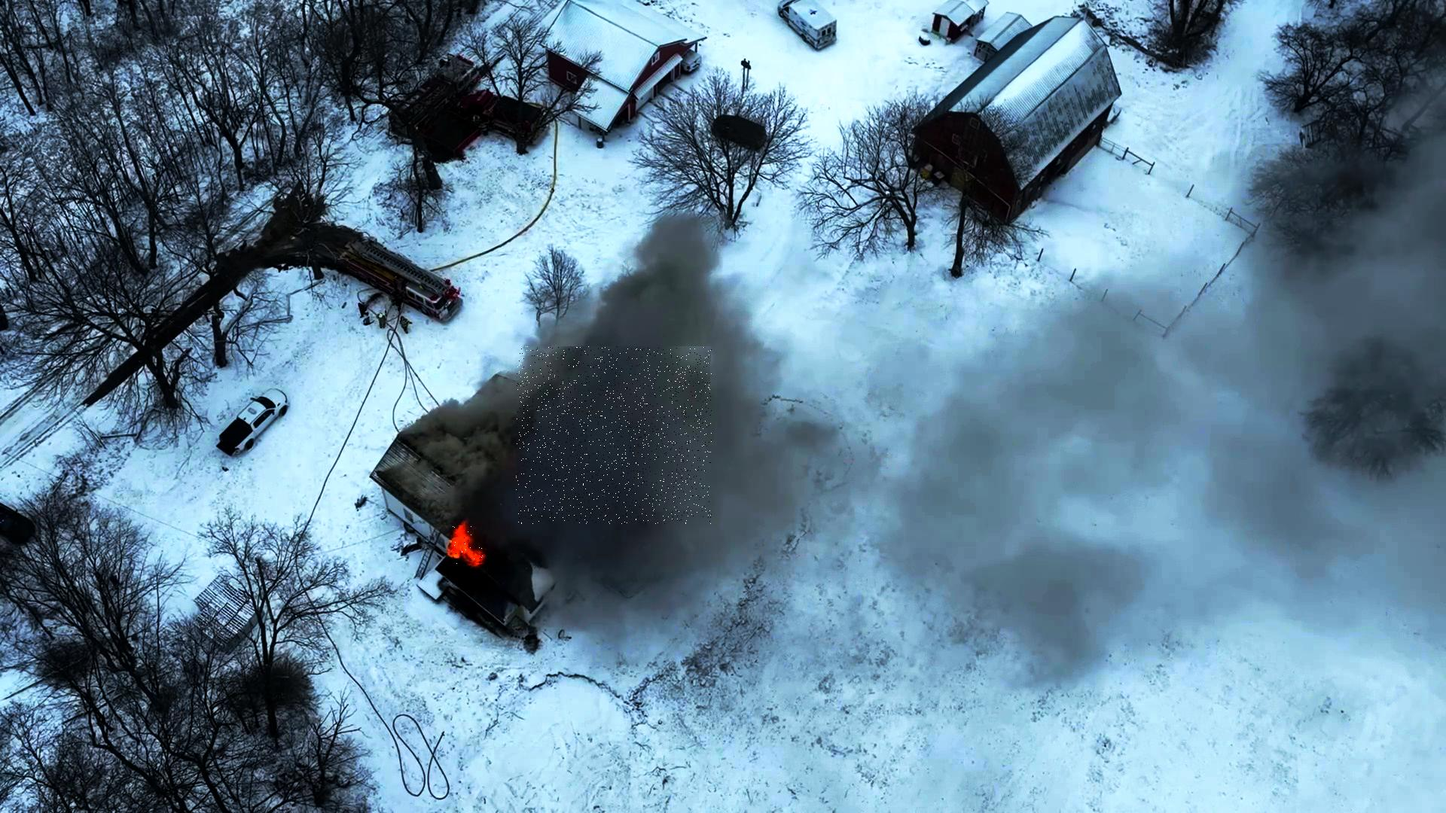fire: (448, 526, 487, 566)
smoke: (516, 347, 712, 524)
